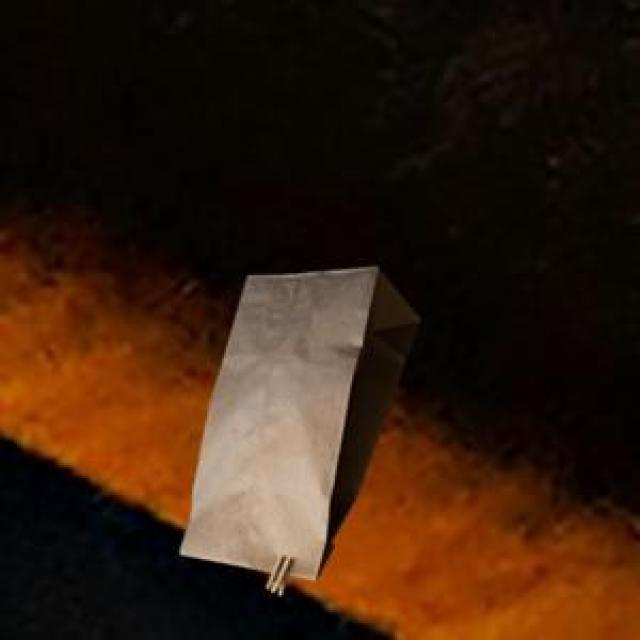paper: (177, 262, 416, 591)
